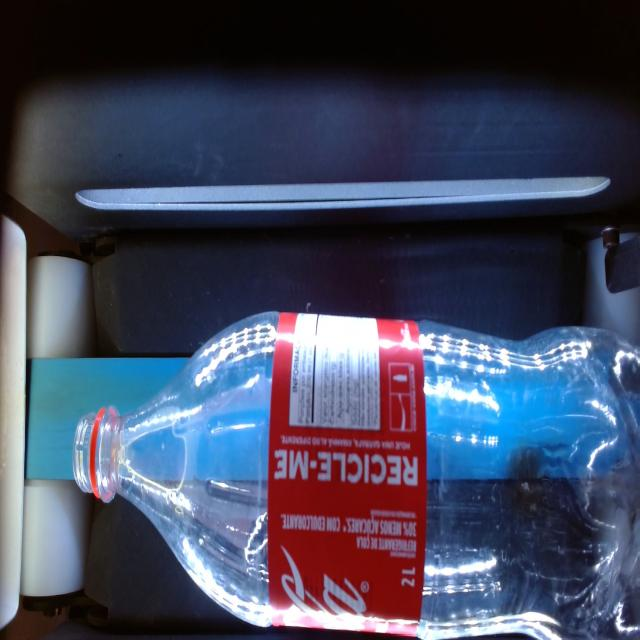bottom: (419, 322, 639, 638)
label: (267, 313, 427, 635)
neck: (73, 313, 279, 627)
